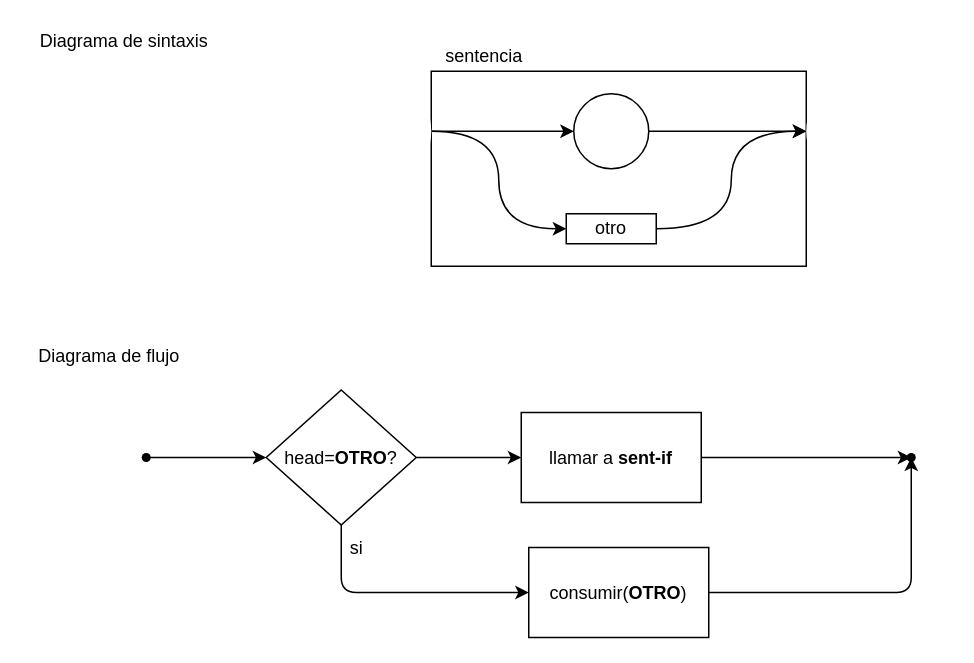
Image size: 974x663. Some labels were removed from this diagram. The shapes that lost their labels are listed below. From the top down, each one's centre as x and y in pixels, then its label:
At point 610,130: "sent-if".
At point 910,457: "fin".
